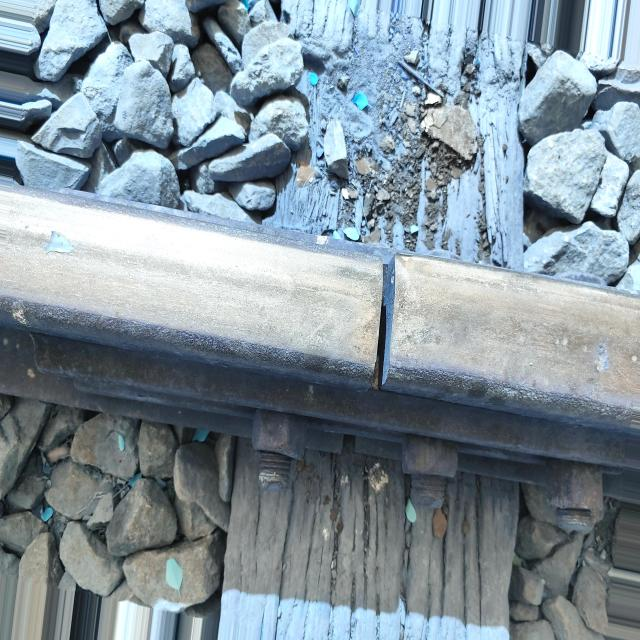crack: (345, 233, 422, 420)
